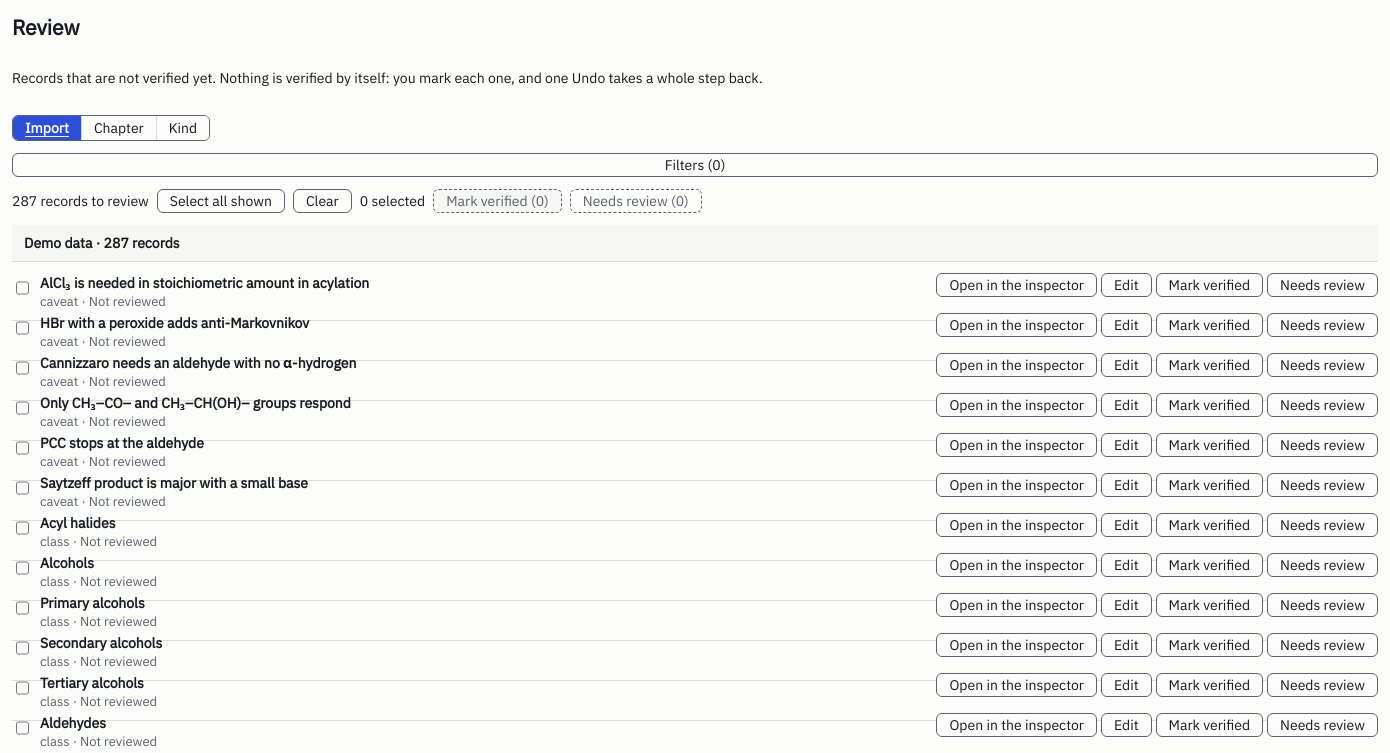
Scenario: on a phone › the filters are behind "Filters (n)", n counting the ones set
Click the button "Filters (0)": (695, 165) [12,153,1378,177]
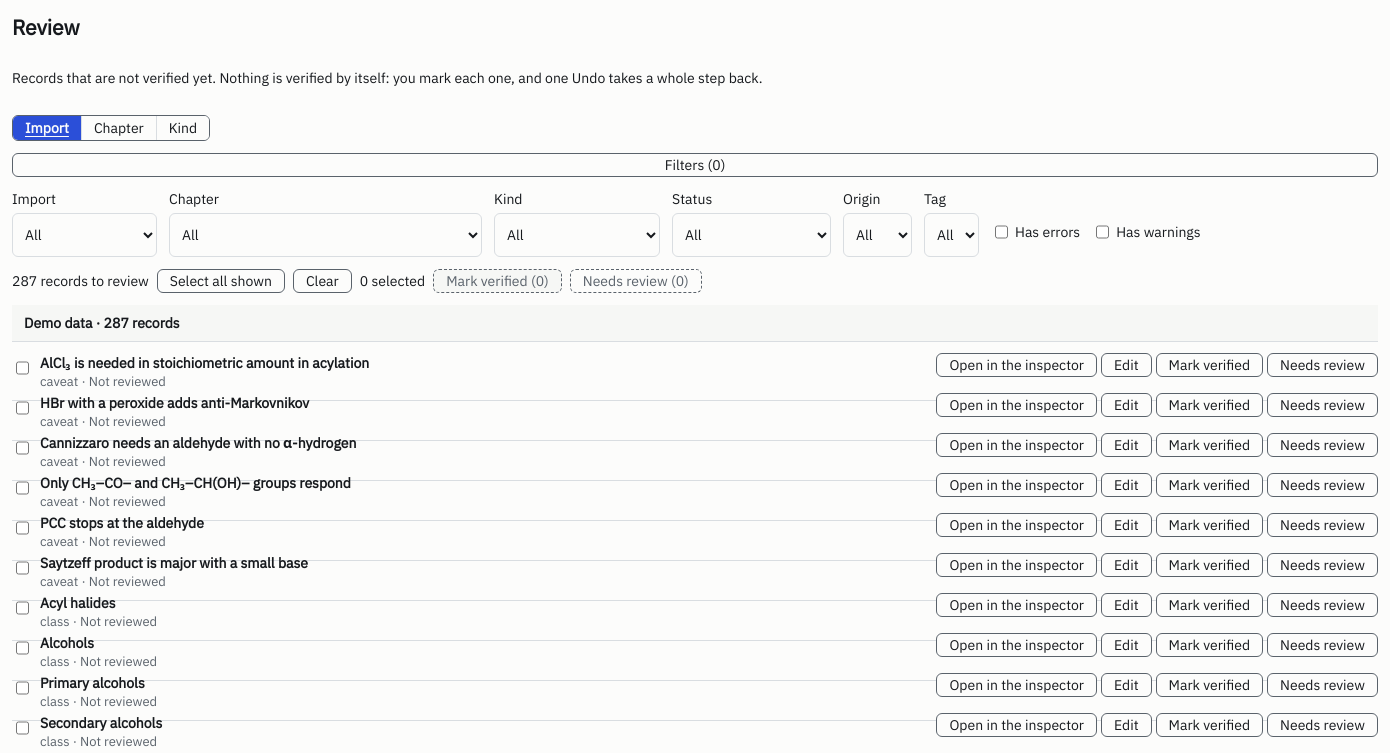
Select "reaction (27)" in the dropdown labelled "Kind": (577, 235) [494,213,660,257]
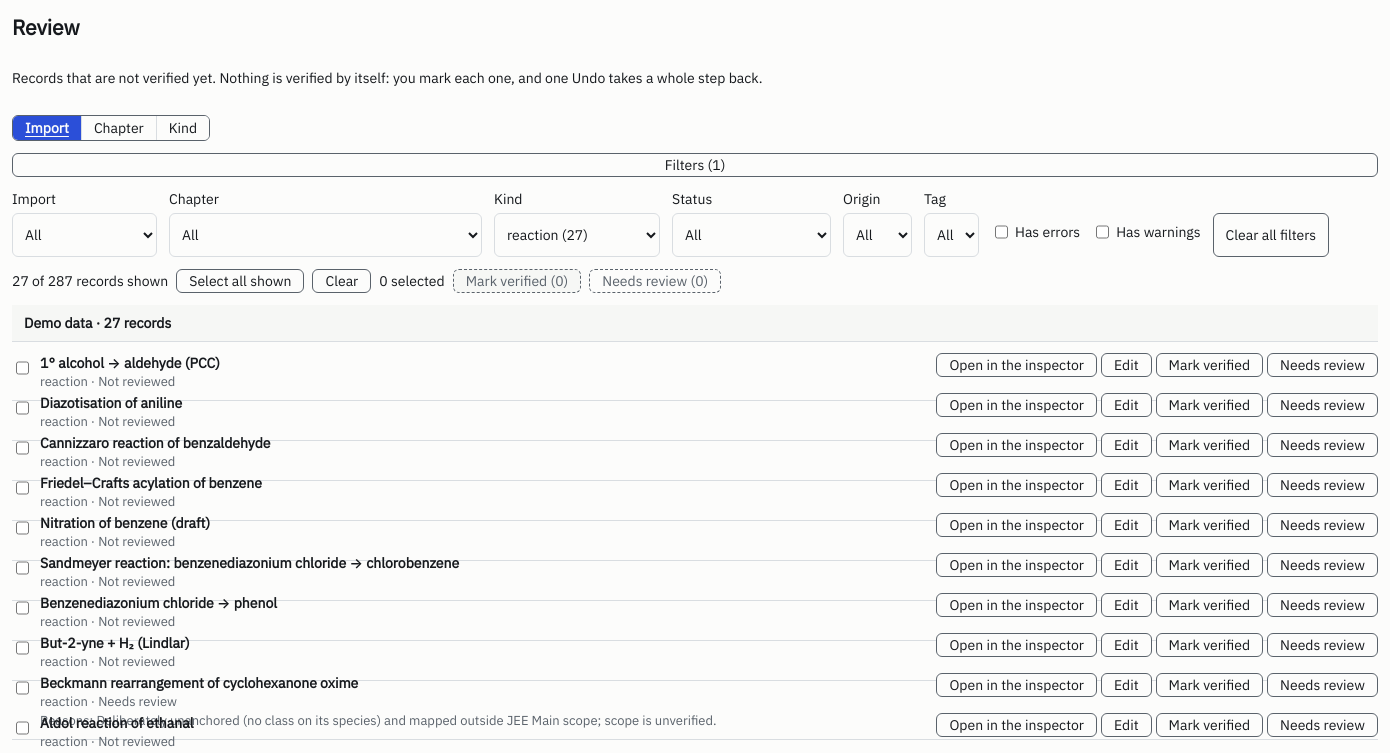
Check: the button "Filters (1)" is shown, box [12,153,1378,177]
